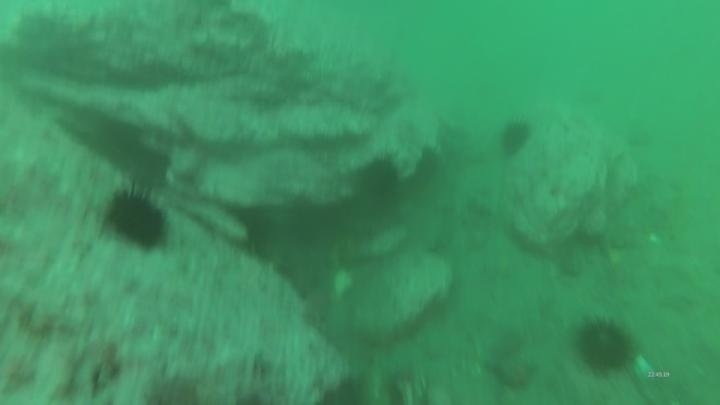echinus: (100, 183, 174, 255), (570, 314, 640, 379), (354, 155, 403, 204), (137, 370, 205, 405), (496, 117, 534, 160), (412, 145, 445, 186)
